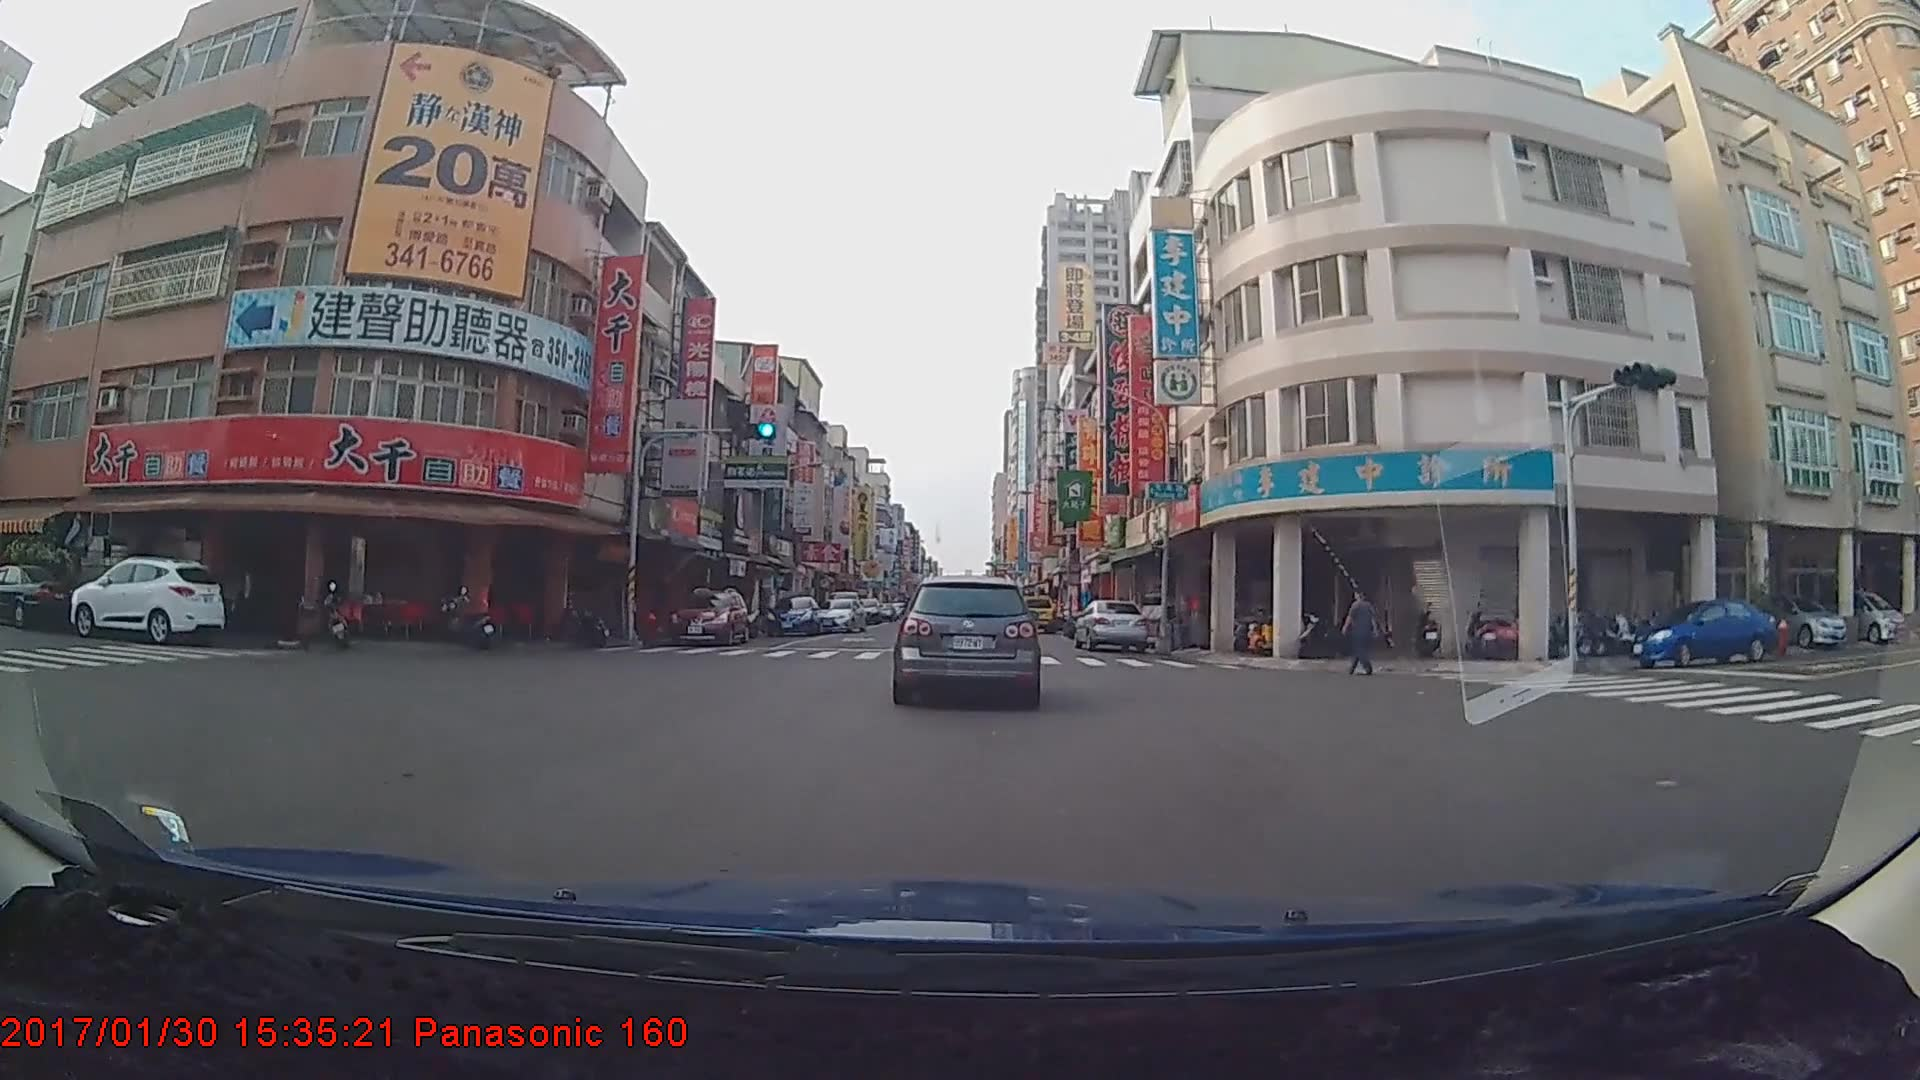pedestrian: (1344, 591, 1380, 681)
vehicle: (893, 576, 1041, 707), (68, 554, 223, 645), (1632, 596, 1778, 668), (1739, 586, 1851, 648), (1805, 586, 1909, 639), (665, 586, 751, 644), (1, 565, 73, 630), (1069, 596, 1148, 655), (764, 588, 823, 631), (810, 593, 866, 629), (1015, 594, 1058, 632)
